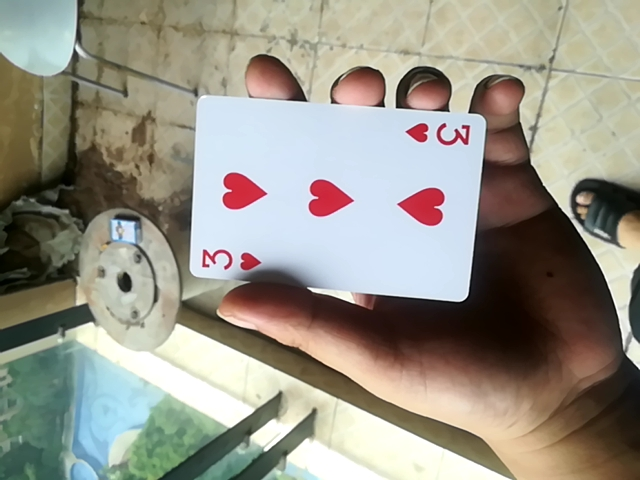hx 3: (179, 97, 487, 308)
